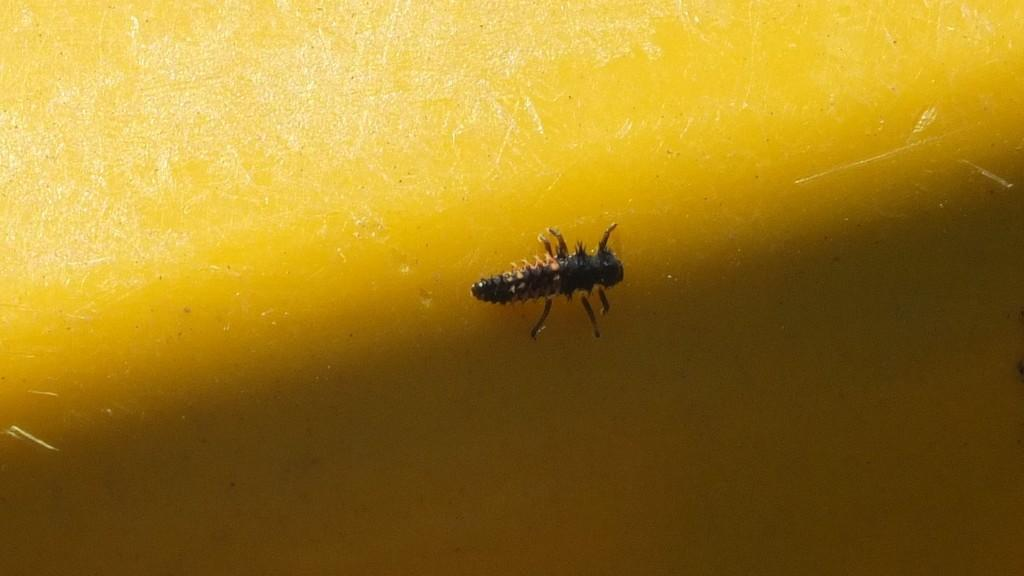ladybug: (471, 221, 629, 343)
